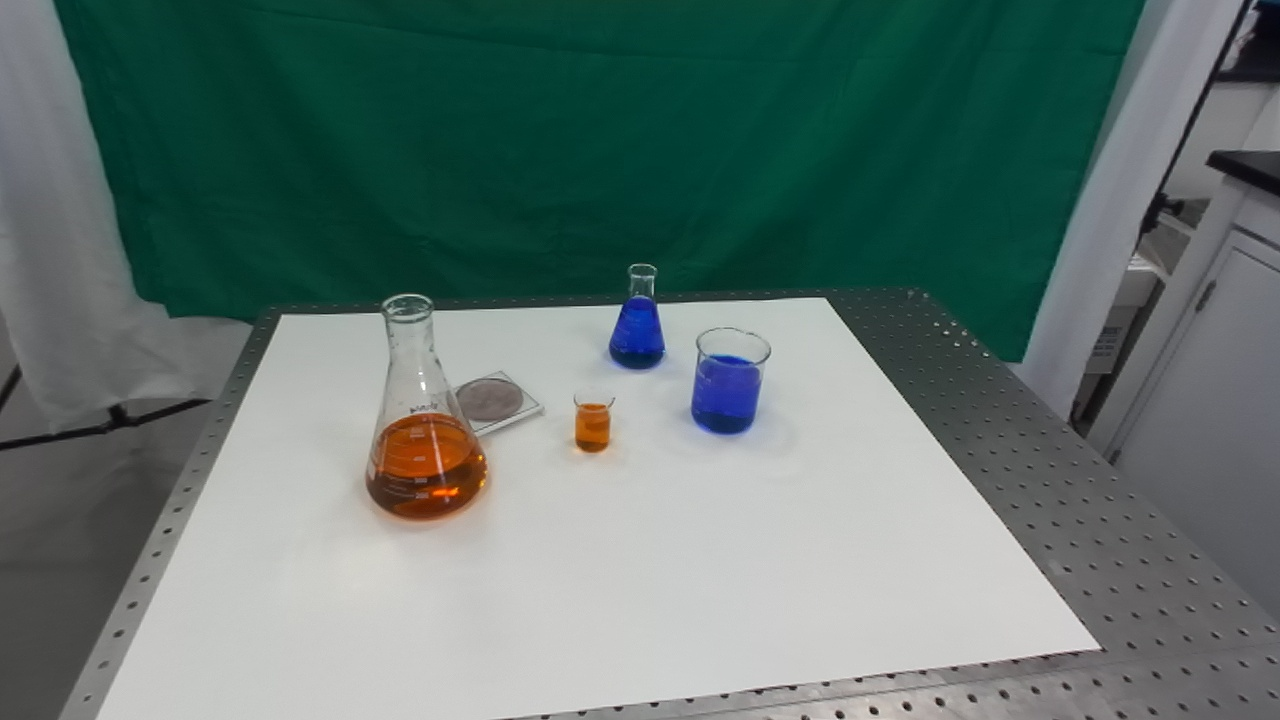glass: (361, 291, 494, 530), (688, 324, 777, 440), (607, 256, 668, 376), (572, 385, 617, 457)
plate: (430, 367, 549, 442)
